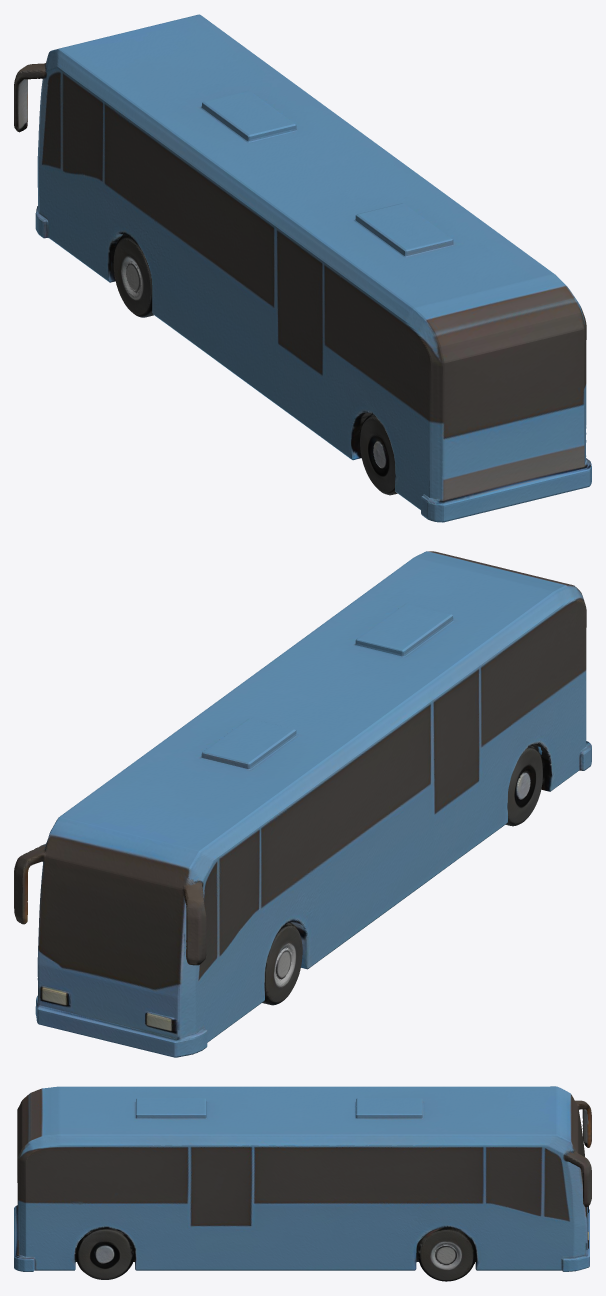
3 renders of one model, top to bottom at view 1: azimuth 30°, elevation 25°; view 2: azimuth 150°, elevation 25°; view 3: azimuth 270°, elevation 25°, orthographic. The views are drawn at different scales.
Parts seen in each view (by area): view 1: tripo_node_d26053dc-c37b-4f45-84e9-40a5b7c152b6; view 2: tripo_node_d26053dc-c37b-4f45-84e9-40a5b7c152b6; view 3: tripo_node_d26053dc-c37b-4f45-84e9-40a5b7c152b6.
Part boxes in pixels (box(x1,y1,x2,y2)): tripo_node_d26053dc-c37b-4f45-84e9-40a5b7c152b6: box(14, 14, 591, 522); tripo_node_d26053dc-c37b-4f45-84e9-40a5b7c152b6: box(14, 551, 591, 1057); tripo_node_d26053dc-c37b-4f45-84e9-40a5b7c152b6: box(14, 1086, 591, 1281).
Size of the model in its own units: 26.89 by 28.75 by 100.
